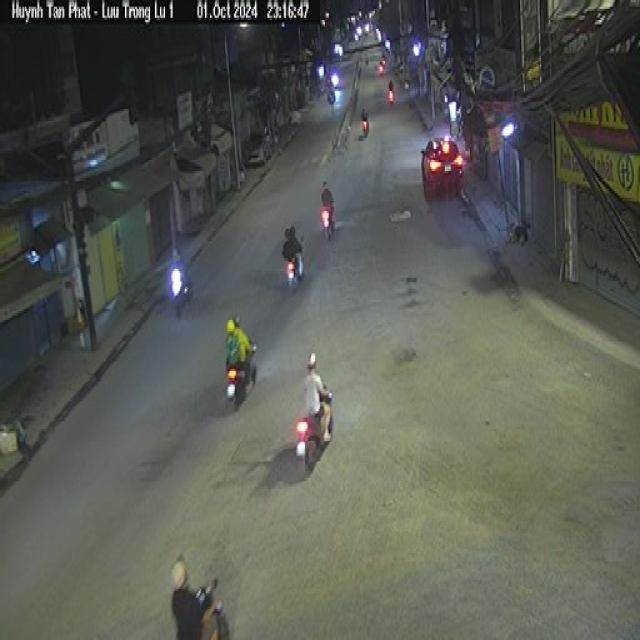car: (420, 133, 464, 200)
motorcycle: (295, 389, 334, 471), (225, 342, 256, 409), (282, 238, 304, 291), (320, 200, 335, 238)
person: (170, 556, 219, 638), (302, 351, 332, 442)
